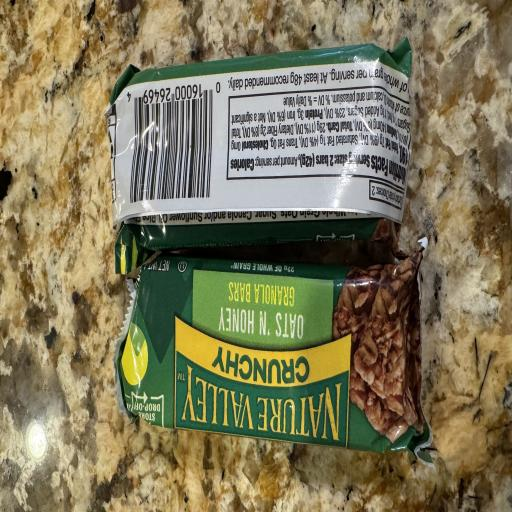granola: (106, 39, 411, 273), (115, 250, 430, 462)
